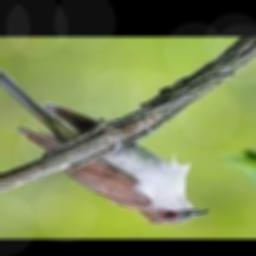Cuckoo: (0, 51, 208, 224)
